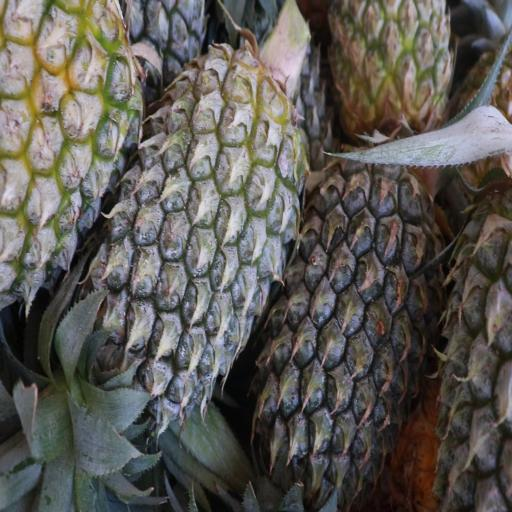------------------------------: (0, 0, 139, 298), (328, 0, 452, 137)
